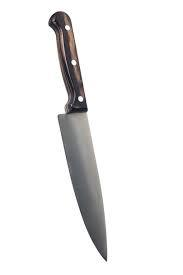Knife: (47, 10, 107, 261)
